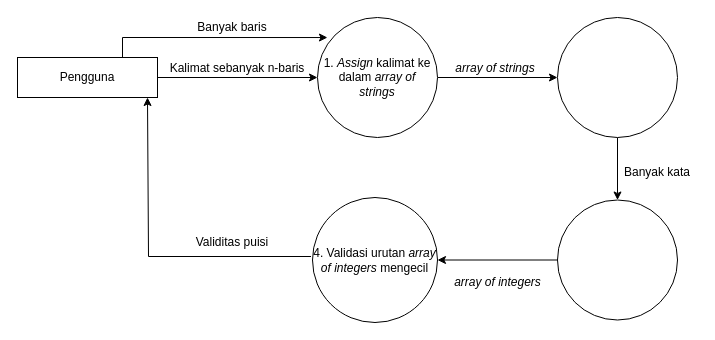
Image size: 715x340. Some labels were removed from this diagram. The shapes that lost their labels are listed below. From the top down, each one's centre as x and y in pixels, then its label:
the point at 617,77: 2. Hitung banyak kata tiap elemen array of string
the point at 617,259: 3. Assign nilai ke dalam array of integer
